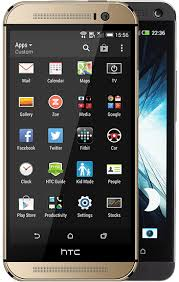htc: (2, 1, 136, 280)
